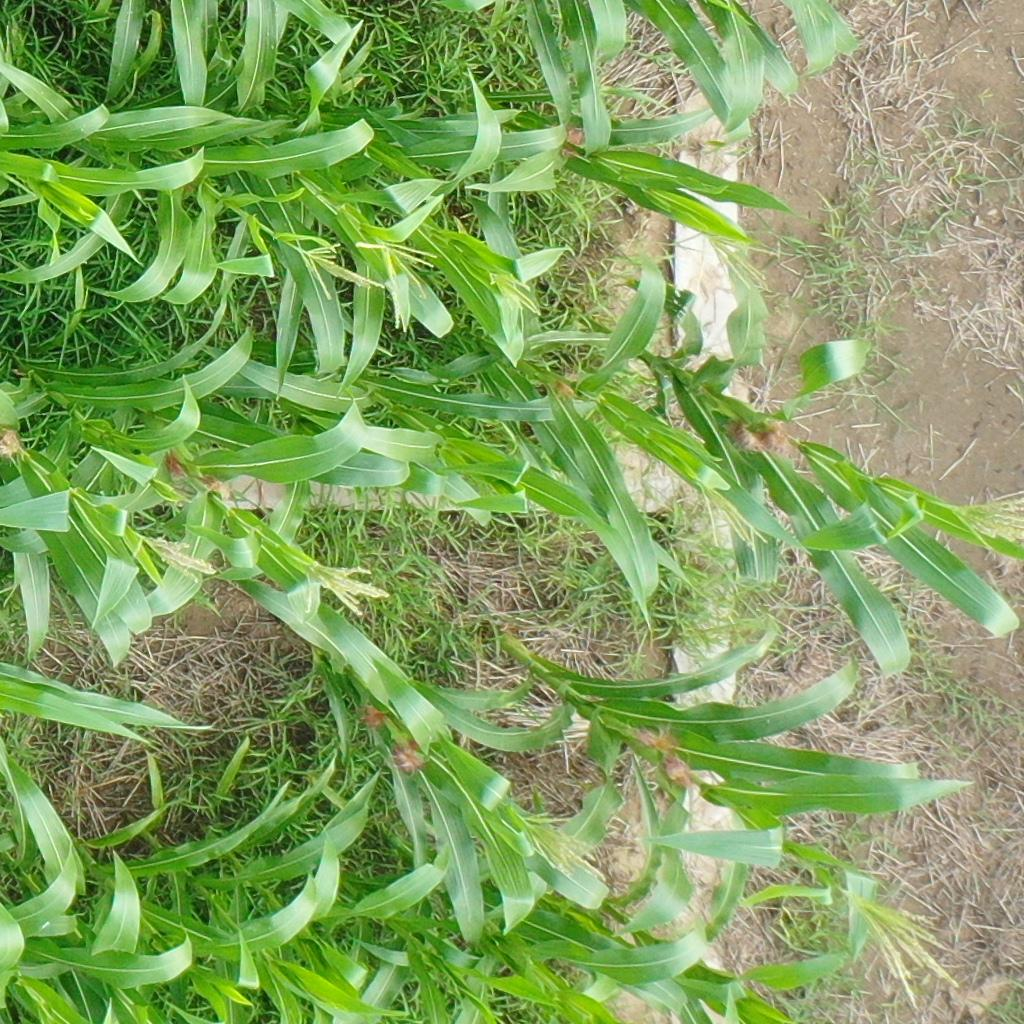Tassel: (859, 902, 962, 1012), (513, 809, 608, 888), (356, 237, 435, 330), (296, 558, 388, 618), (695, 477, 770, 548), (300, 240, 385, 301), (129, 529, 217, 586), (708, 229, 780, 294), (952, 488, 1024, 551), (596, 64, 674, 119), (488, 271, 542, 317), (158, 483, 192, 503)
